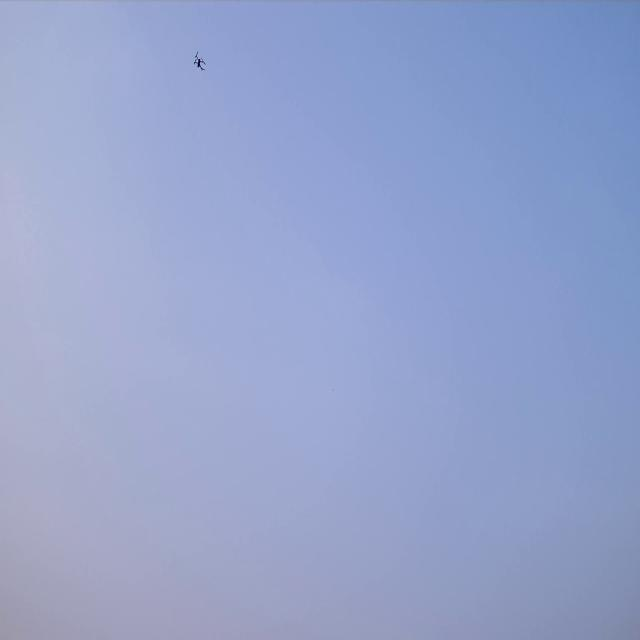UAV: (193, 50, 206, 73)
